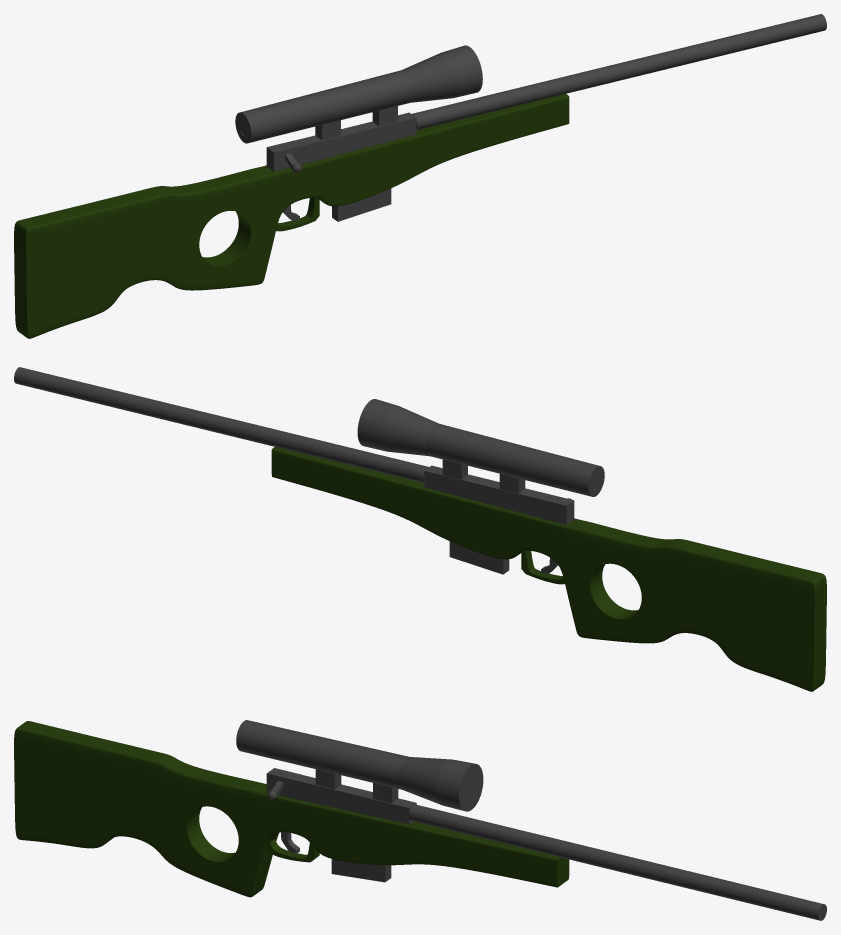
File: Sniper.fbx
3 views of the same model, one above another, from view 1: azimuth 30°, elevation 25°; view 2: azimuth 150°, elevation 25°; view 3: azimuth 330°, elevation 25° (orthographic).
Visible parts, largest first — view 1: Body, Cylinder.003, Cylinder, Plane.002, Magazine, Bolt Action Thing; view 2: Body, Cylinder.003, Cylinder, Plane.002, Bolt Action Thing, Magazine; view 3: Body, Cylinder.003, Cylinder, Plane.002, Magazine, Bolt Action Thing, Plane, Plane.004, Plane.003.
Boxes of the visible parts, x1=… form: Body: x1=14, y1=93, x2=569, y2=338; Cylinder.003: x1=235, y1=45, x2=482, y2=143; Cylinder: x1=412, y1=14, x2=826, y2=129; Plane.002: x1=295, y1=112, x2=416, y2=164; Magazine: x1=332, y1=188, x2=391, y2=221; Bolt Action Thing: x1=266, y1=140, x2=302, y2=171; Body: x1=271, y1=447, x2=826, y2=691; Cylinder.003: x1=357, y1=399, x2=604, y2=496; Cylinder: x1=14, y1=367, x2=428, y2=482; Plane.002: x1=424, y1=465, x2=545, y2=517; Bolt Action Thing: x1=538, y1=493, x2=574, y2=524; Magazine: x1=449, y1=541, x2=509, y2=574; Body: x1=14, y1=721, x2=569, y2=897; Cylinder.003: x1=236, y1=720, x2=483, y2=811; Cylinder: x1=409, y1=804, x2=826, y2=920; Plane.002: x1=295, y1=775, x2=416, y2=824; Magazine: x1=331, y1=859, x2=391, y2=882; Bolt Action Thing: x1=266, y1=768, x2=302, y2=798; Plane: x1=268, y1=839, x2=319, y2=862; Plane.004: x1=315, y1=769, x2=341, y2=789; Plane.003: x1=373, y1=783, x2=398, y2=803.
Size of the model in its own units: 392 by 84.27 by 22.94.
